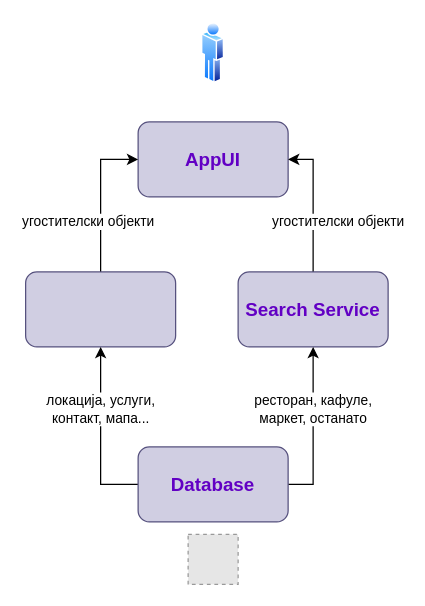
Image size: 425x606. Some labels were removed from this diagram. Grey dashed boxes stand in for pictures. Here are the shapes that lost their labels. From the top down, the centre of each, then its label:
pixel 212 52: User
pixel 100 309: Information Service
